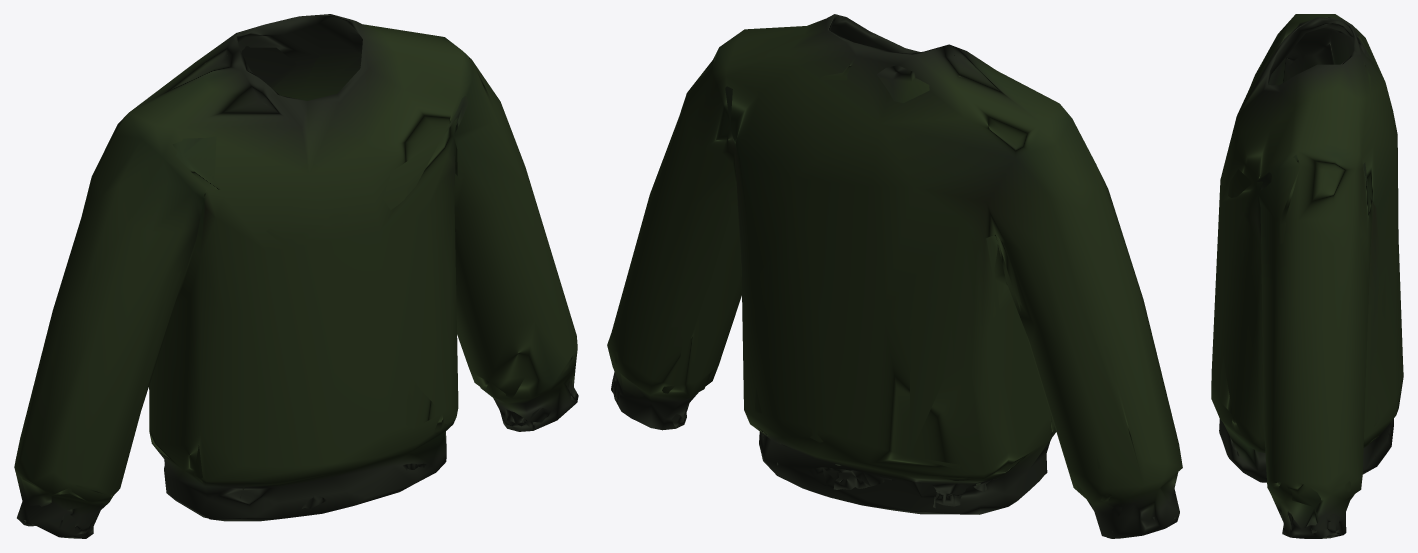
File: gen3d-sweater-lod0.glb
3 renders of one model, left to right at view 1: azimuth 30°, elevation 25°; view 2: azimuth 150°, elevation 25°; view 3: azimuth 270°, elevation 25°, orthographic. The views are drawn at different scales.
Visible parts, largest first — view 1: part_0; view 2: part_0; view 3: part_0.
Part boxes in pixels (x1,y1,x2,y2): part_0: (14,14,578,538); part_0: (607,14,1182,538); part_0: (1211,14,1403,538).
Size of the model in its own units: 1.3 by 0.9991 by 0.4366.
